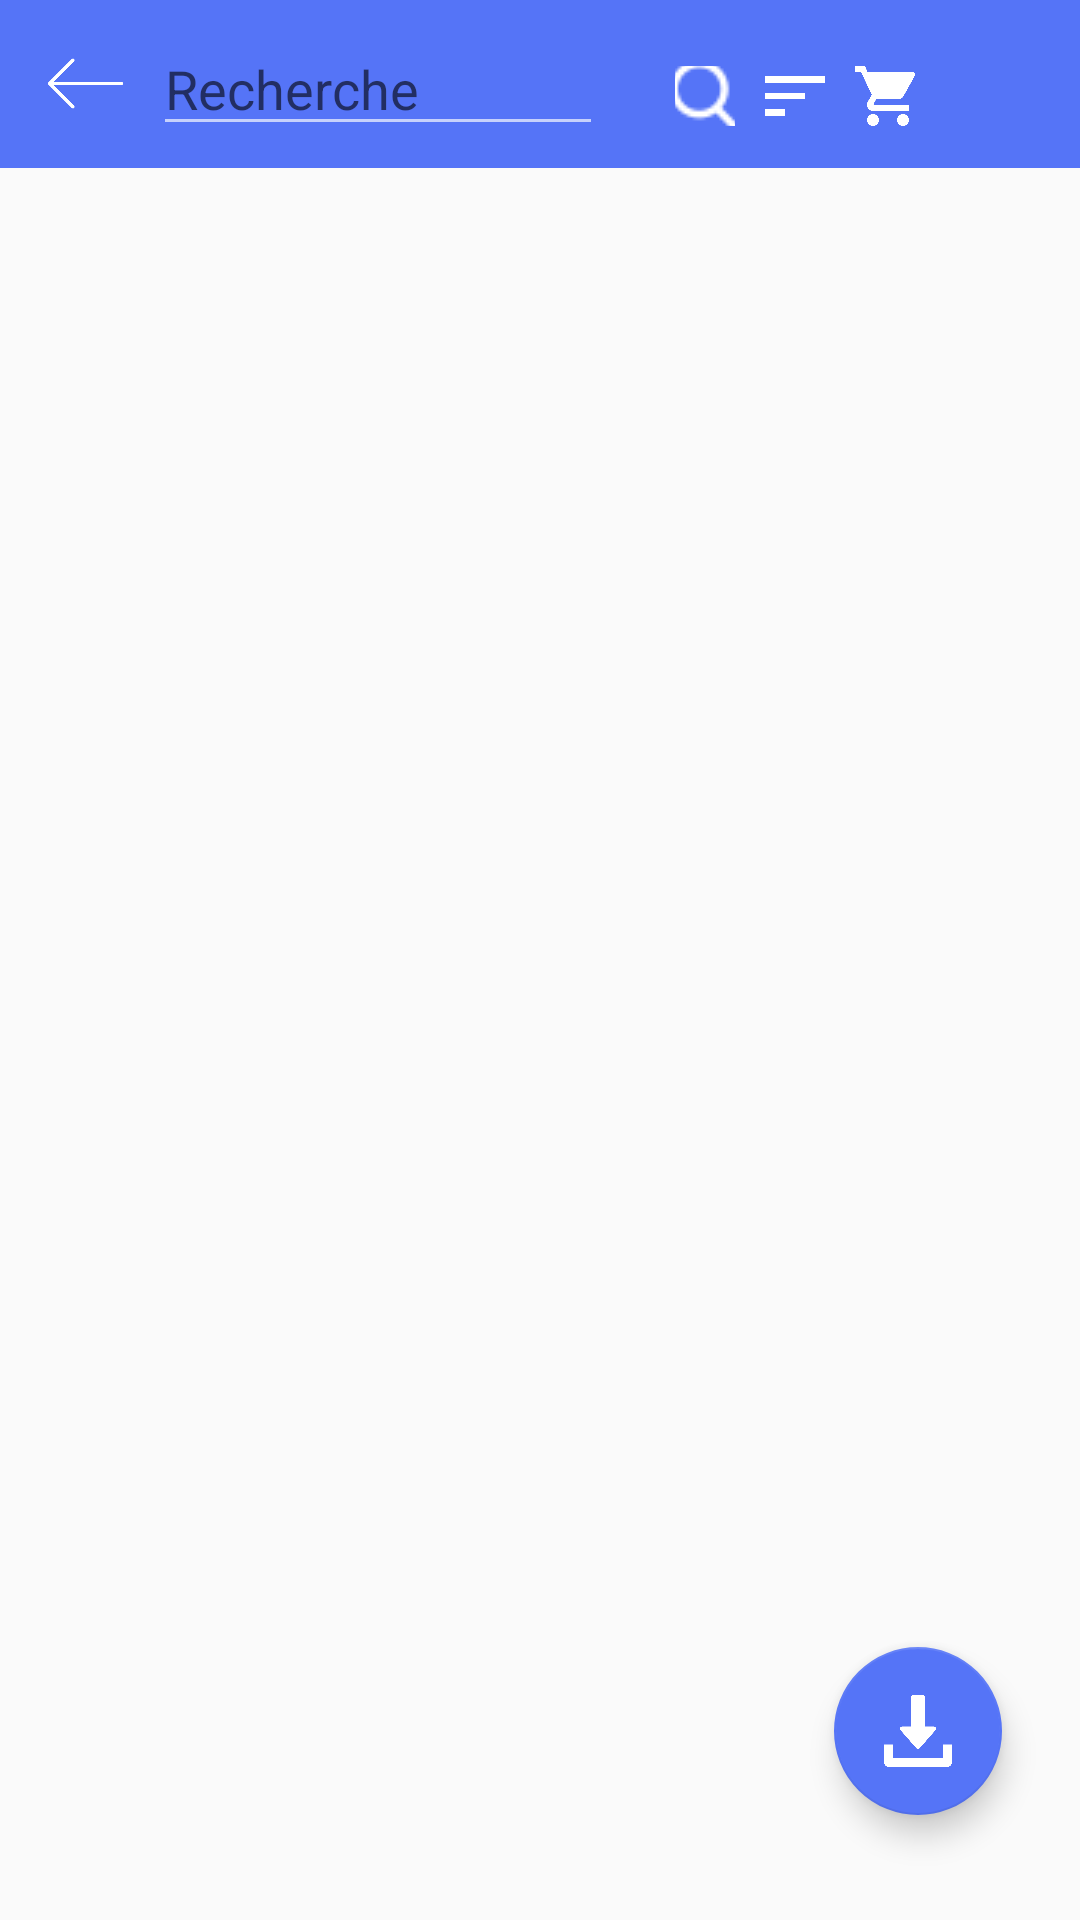

Icon click points for this 1080px x 1920px phone screenshot, format point (x, y):
cart: point (885, 96)
left: point (85, 83)
sort: point (795, 96)
